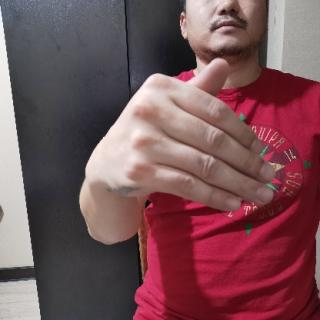KHAA: (80, 53, 283, 221)
